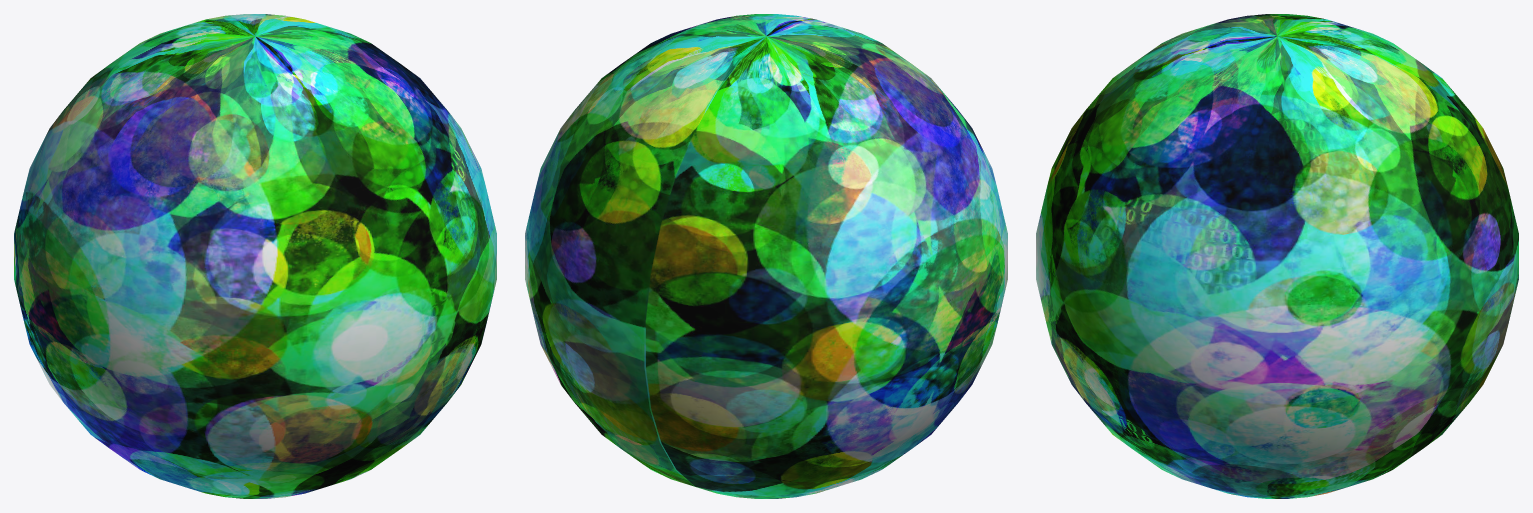
File: RorlingRock.fbx
3 views of the same model, side by side, from view 1: azimuth 30°, elevation 25°; view 2: azimuth 150°, elevation 25°; view 3: azimuth 270°, elevation 25° (orthographic).
Parts seen in each view (by area): view 1: Sphere001; view 2: Sphere001; view 3: Sphere001.
Part boxes in pixels (x1=…): Sphere001: x1=14, y1=14, x2=496, y2=498; Sphere001: x1=525, y1=14, x2=1007, y2=498; Sphere001: x1=1036, y1=14, x2=1518, y2=498.
Bounding box in the file's own units: 396 × 398 × 400.
Materials: 1 (1 with a texture image).
